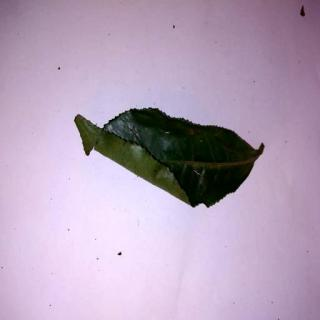Anthracnose: (75, 110, 267, 210)
